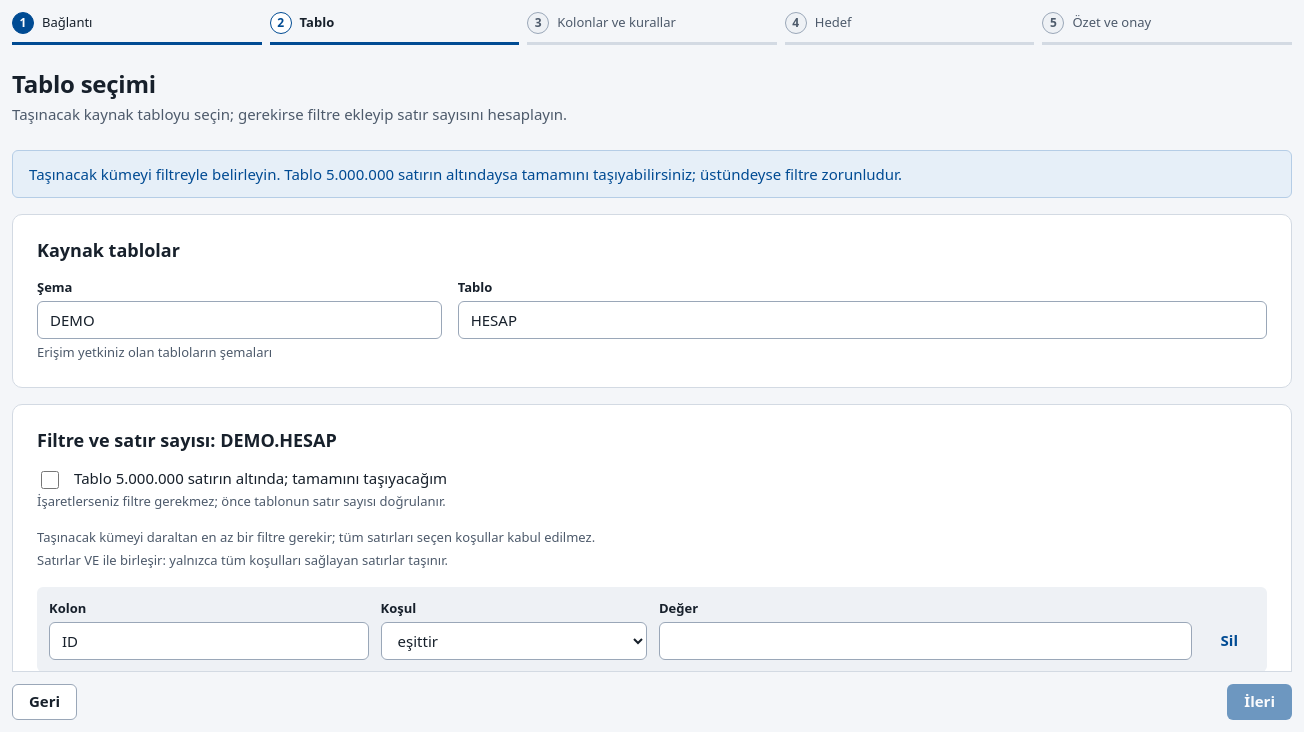
Test: Tables › kutu işaretlenince filtre gizlenir, doğrulama full_table ile sayar ve İleri açılır
The image size is (1304, 732).
Click the checkbox labelled "Tablo 5.000.000 satırın altında; tamamını taşıyacağım". click: click(50, 480)
box: [41,471,59,489]
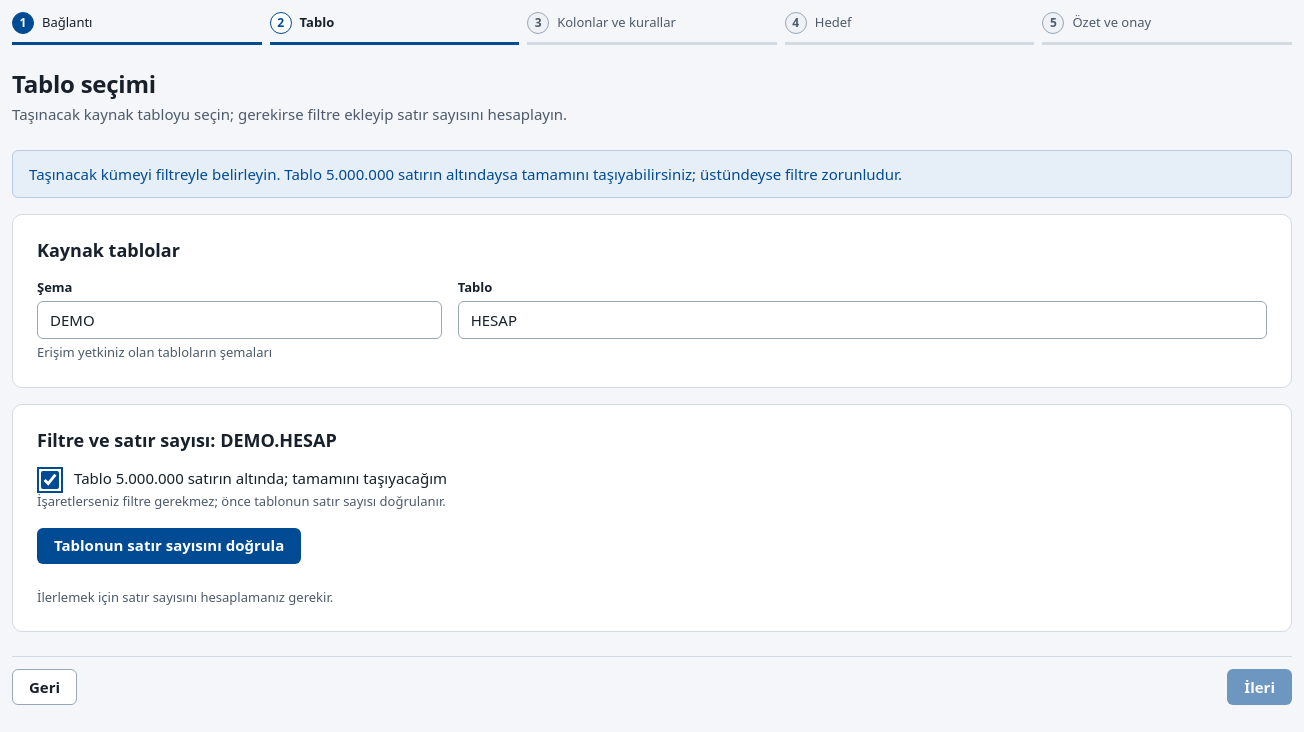
Click the button "Tablonun satır sayısını doğrula". click: click(169, 546)
box: [37,528,301,564]
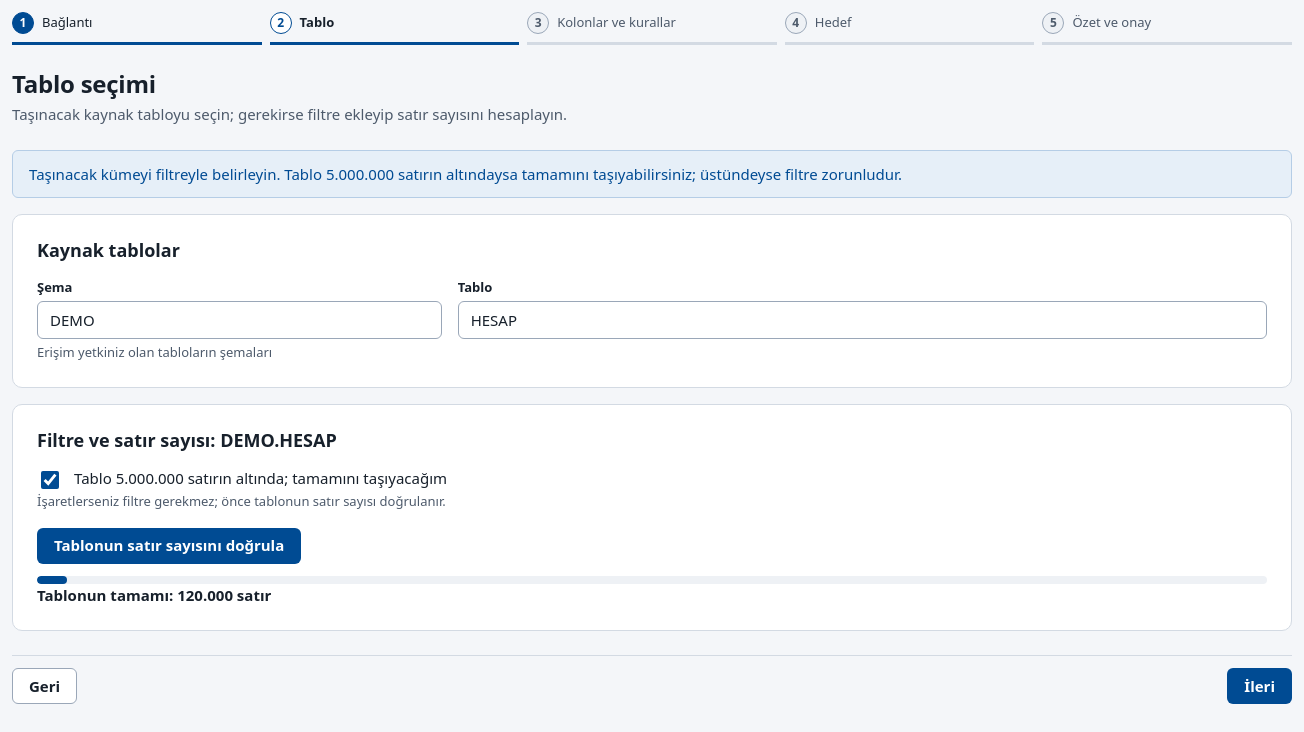
expect the text "Tablonun tamamı: 120.000 satır" is shown: met, box [37,584,271,604]
expect the button "İleri" is enabled: met, box [1227,668,1292,704]
